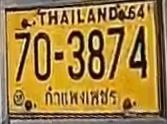0: (33, 32, 50, 80)
3: (67, 30, 84, 79)
4: (128, 25, 146, 77)
7: (106, 26, 124, 79), (14, 32, 30, 80)
8: (87, 29, 104, 78)
KPT: (41, 84, 121, 109)
